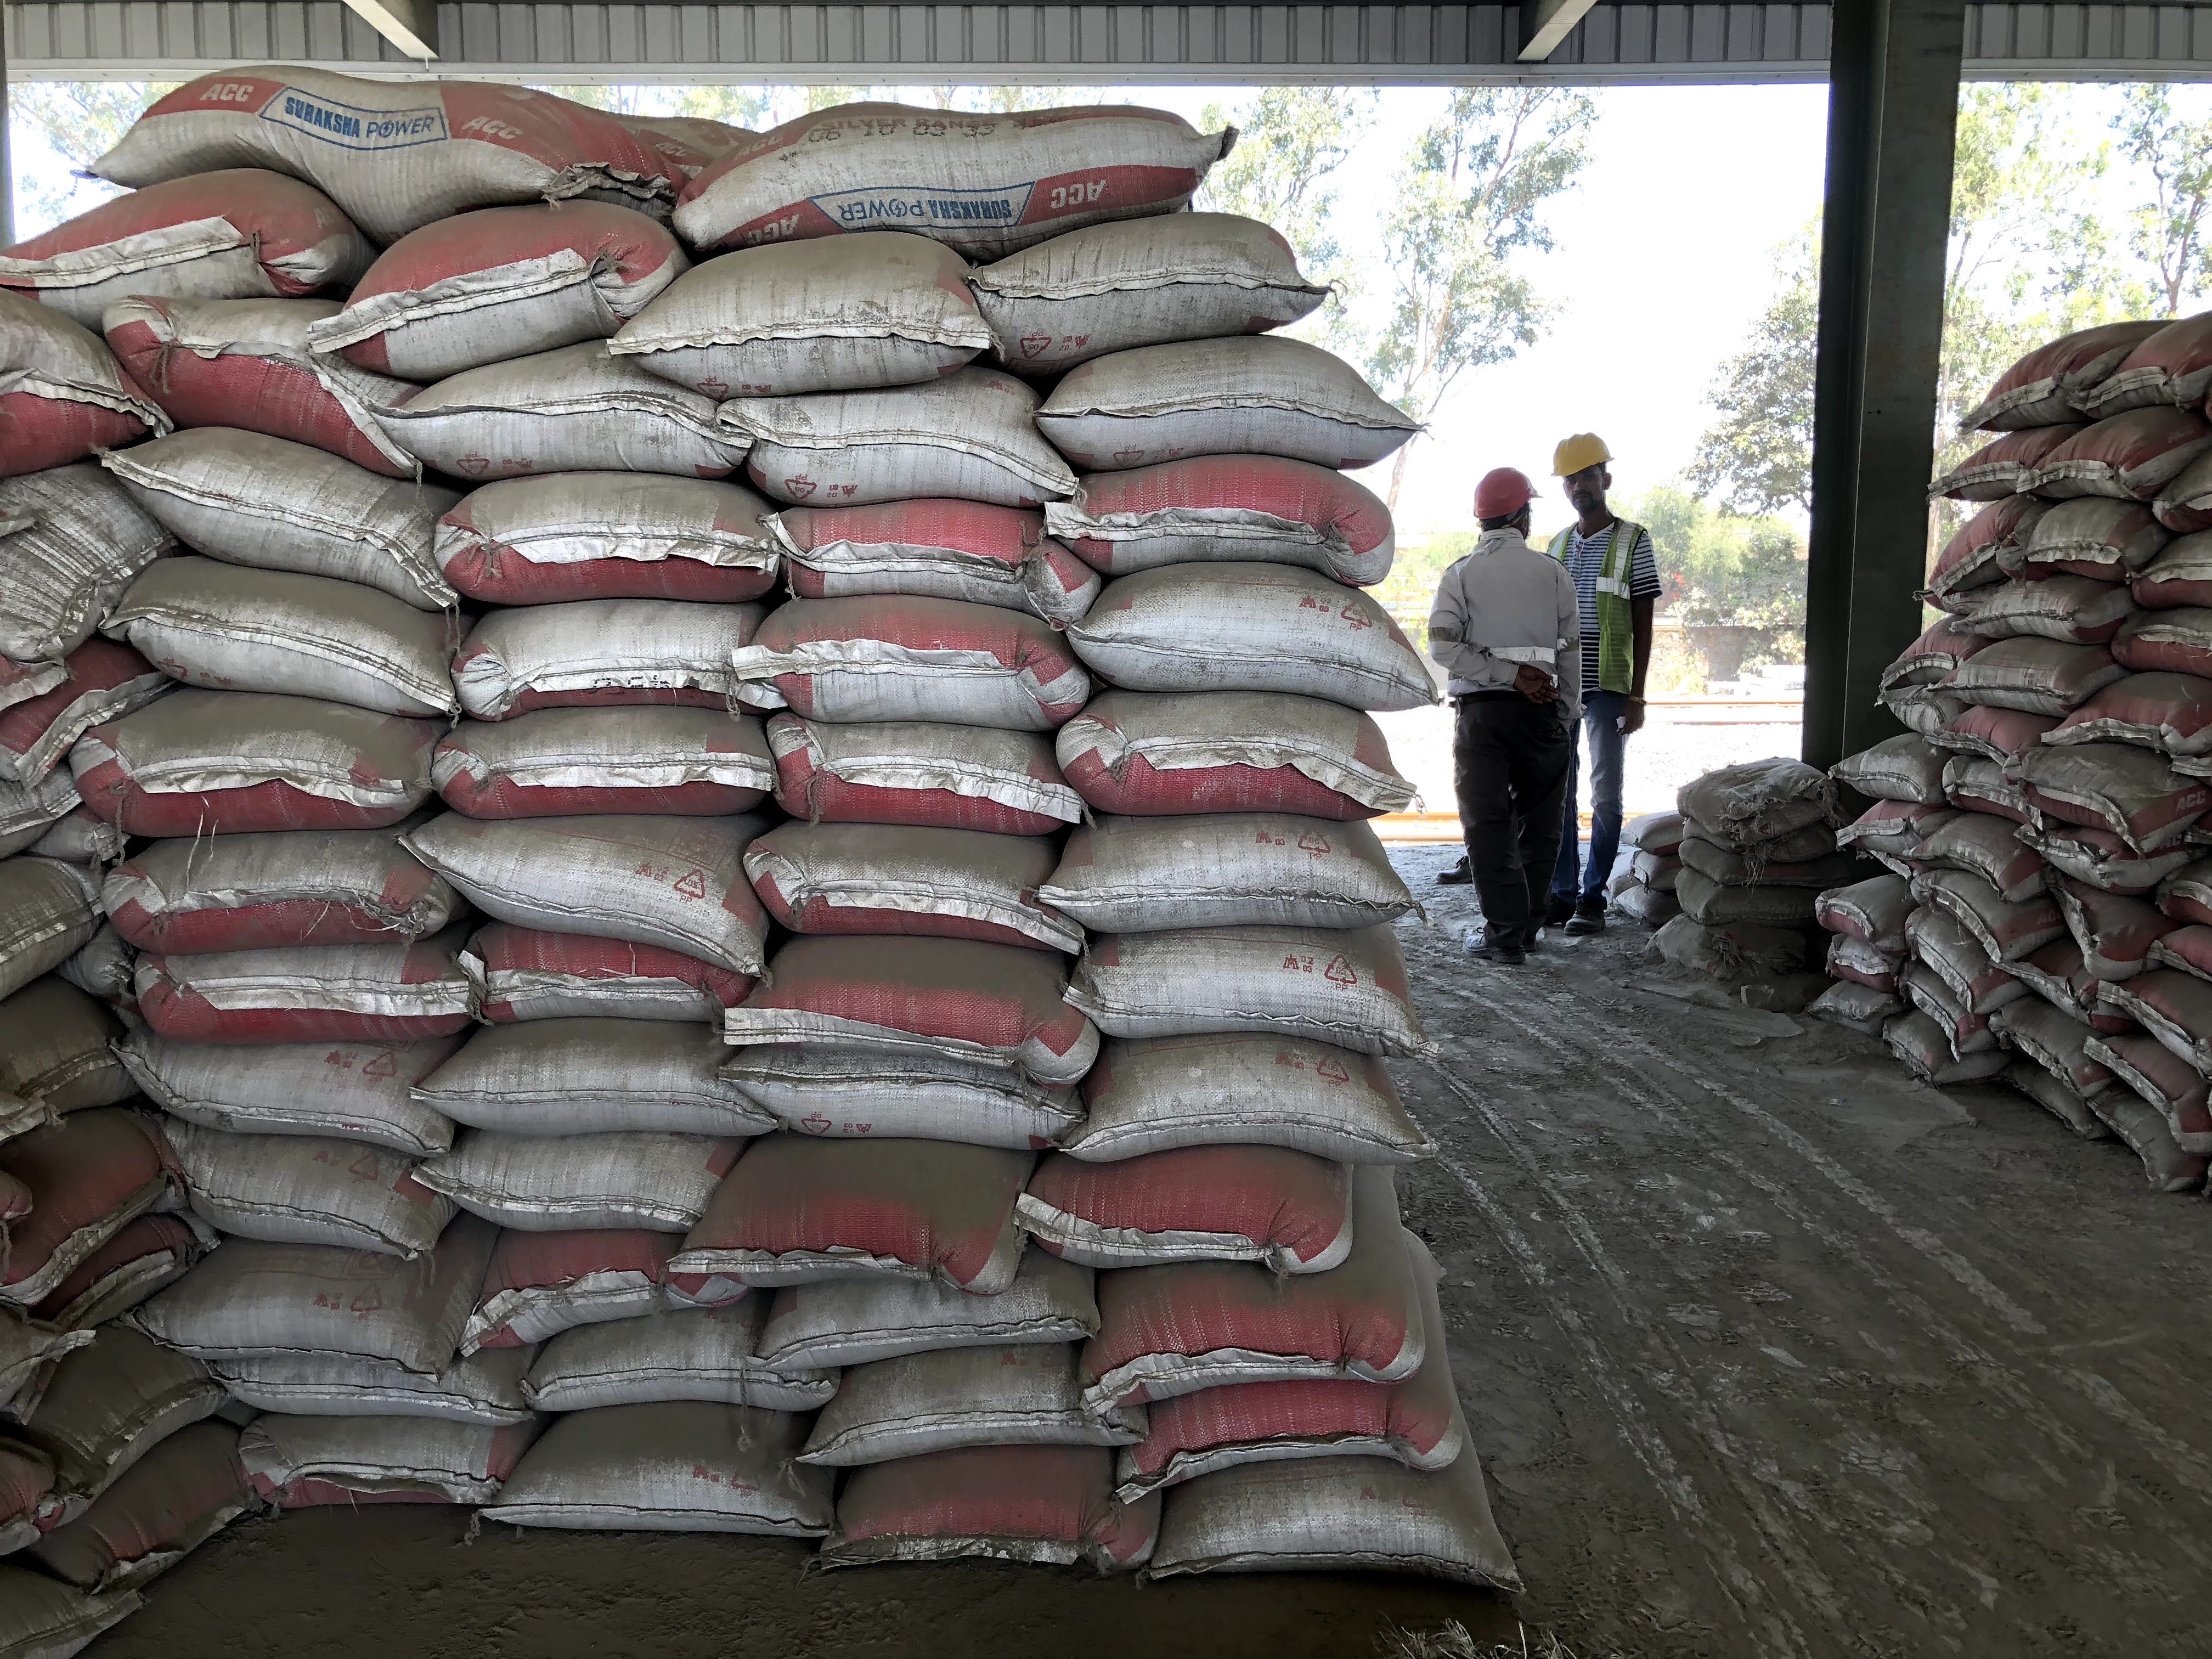cement bag: (120, 58, 594, 206), (127, 1089, 449, 1249), (150, 420, 446, 594), (594, 129, 1198, 206), (737, 1140, 1024, 1297), (122, 296, 411, 451), (779, 793, 1061, 951), (1104, 666, 1404, 814), (1052, 310, 1366, 450), (101, 803, 418, 941), (772, 932, 1090, 1063), (127, 660, 418, 803), (665, 258, 1003, 373), (1085, 908, 1404, 1028), (1052, 450, 1399, 559), (456, 458, 759, 584), (554, 1406, 838, 1535), (449, 774, 732, 903), (756, 493, 1043, 619), (1101, 1377, 1467, 1473), (1089, 1028, 1404, 1138), (446, 584, 759, 694), (1170, 1473, 1467, 1586), (1089, 1138, 1343, 1269), (101, 941, 460, 1033), (784, 713, 1057, 828), (1104, 559, 1399, 666), (155, 1249, 449, 1354), (115, 1033, 460, 1121), (1085, 814, 1404, 908), (756, 373, 1003, 493), (155, 1354, 512, 1436), (1012, 230, 1366, 310), (421, 322, 643, 450), (470, 1340, 817, 1420), (451, 1124, 695, 1237), (838, 1443, 1134, 1535), (737, 1063, 1090, 1140), (1101, 1269, 1343, 1377), (16, 200, 307, 288), (451, 1006, 662, 1124), (784, 619, 1043, 713), (808, 1366, 1123, 1443), (470, 1237, 695, 1340), (446, 694, 732, 774), (449, 903, 662, 1006), (268, 1424, 503, 1514), (127, 594, 446, 660), (347, 254, 643, 322), (786, 1297, 1024, 1368)
